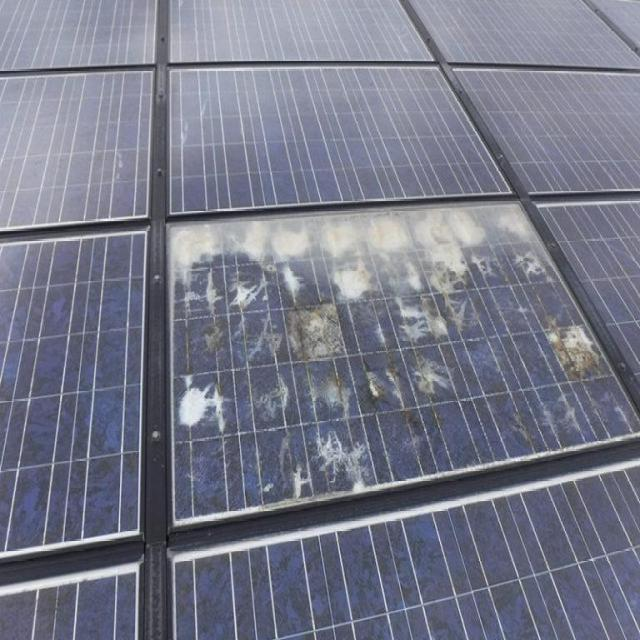cracked: (170, 198, 614, 512)
